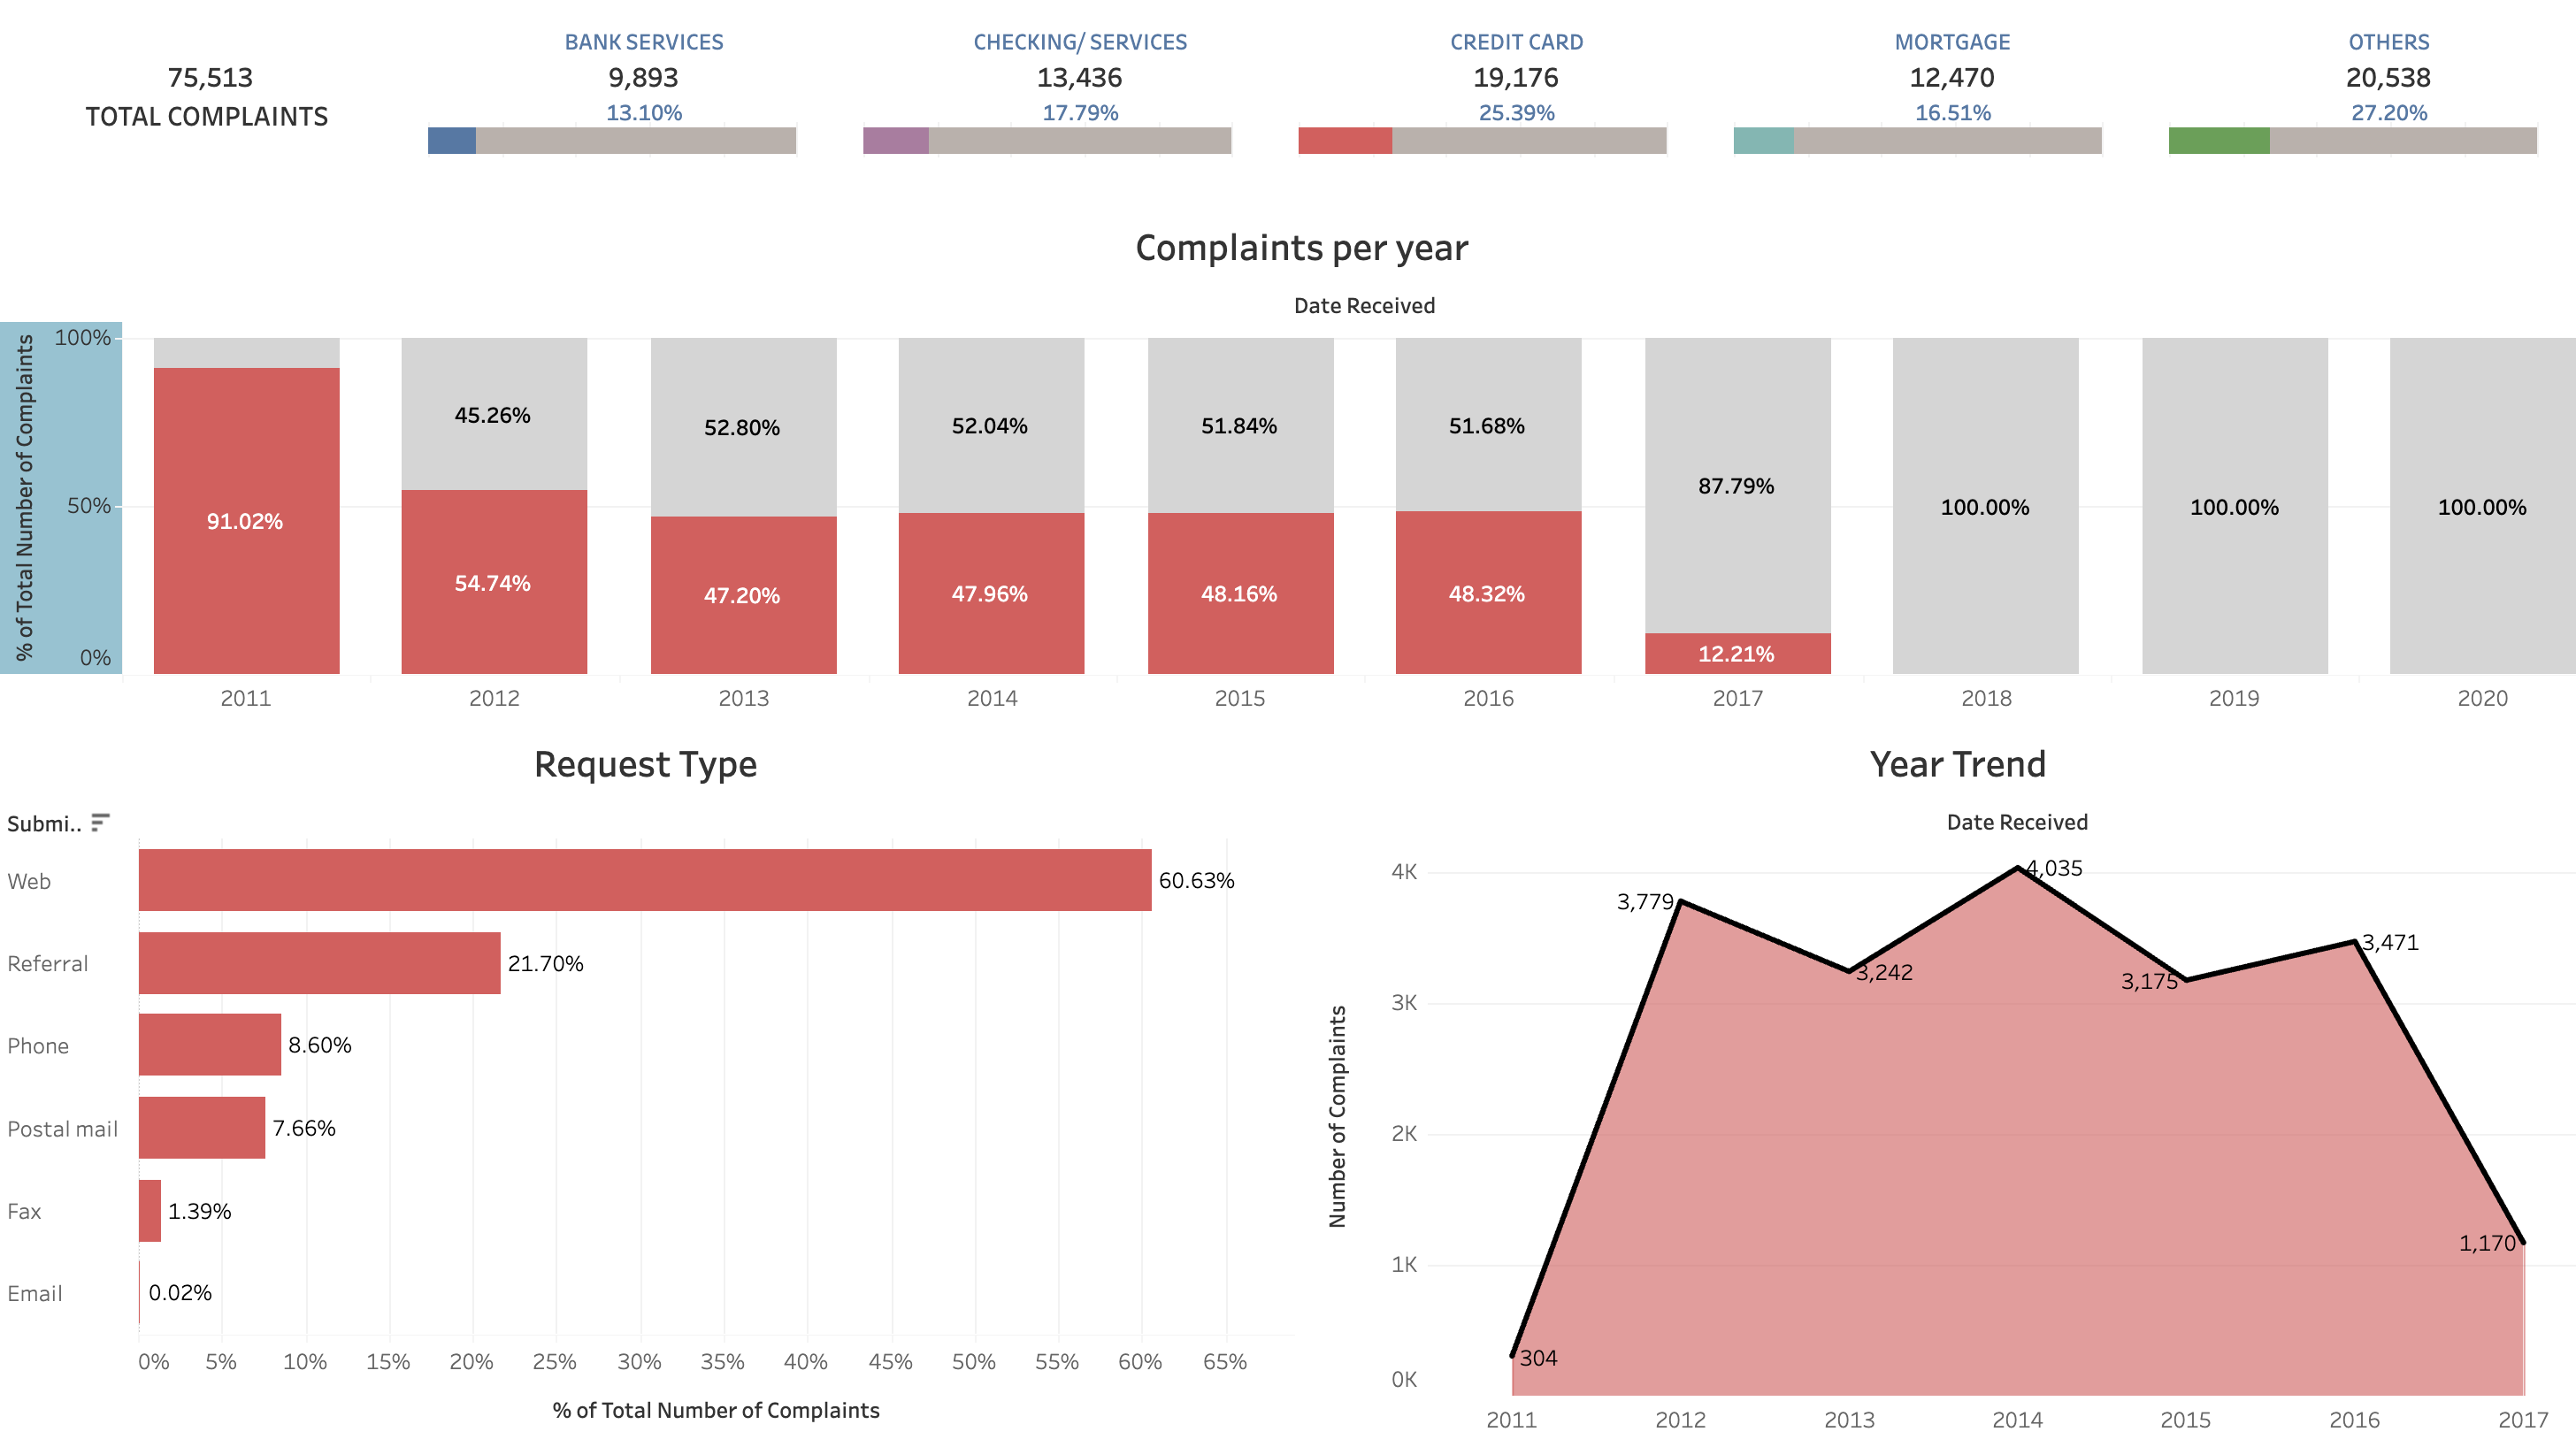

Layout of this report page (visuals, bound fields, positions):
{"tool":"tableau","page":{"name":"Customer Complaint Dashboard","canvas":[1500,900],"ordinal":0},"visuals":[{"type":"title","box":[8,8,1484,79]},{"type":"parameter","param":"[Parameters].[Parameter 1]","box":[1125,28,160,44]},{"type":"worksheet","title":"Total KPI","mark":"Automatic","box":[8,87,247.3,104.9]},{"type":"worksheet","title":"KPI","mark":"Automatic","box":[255.3,87,1236.7,104.9]},{"type":"worksheet","title":"% of Complaints","mark":"Bar","cols":["Calculation_105482809403080705","Number of Complaints"],"box":[256,146,1231,36]},{"type":"worksheet","title":"Complaints per year","mark":"Bar","cols":["Date Received"],"box":[8,192,1484,292]},{"type":"worksheet","title":"Request Type","mark":"Automatic","rows":["Submitted via"],"box":[8,484,742,408]},{"type":"worksheet","title":"Year Trend","mark":"Area","rows":["Number of Complaints","Number of Complaints"],"cols":["Date Received"],"box":[750,484,742,408]}]}

Visuals, with their boxes on the page's 1500x900 design canvas (x1, y1, x2, y2). These are canvas units, not pixel positions in the 2576x1447 screenshot, which may show the page scaled, cropped or inside an application window:
title: (x1=8, y1=8, x2=1492, y2=87)
parameter: (x1=1125, y1=28, x2=1285, y2=72)
"Total KPI" worksheet: (x1=8, y1=87, x2=255, y2=192)
"KPI" worksheet: (x1=255, y1=87, x2=1492, y2=192)
"% of Complaints" worksheet (Bar marks): (x1=256, y1=146, x2=1487, y2=182)
"Complaints per year" worksheet (Bar marks): (x1=8, y1=192, x2=1492, y2=484)
"Request Type" worksheet: (x1=8, y1=484, x2=750, y2=892)
"Year Trend" worksheet (Area marks): (x1=750, y1=484, x2=1492, y2=892)
